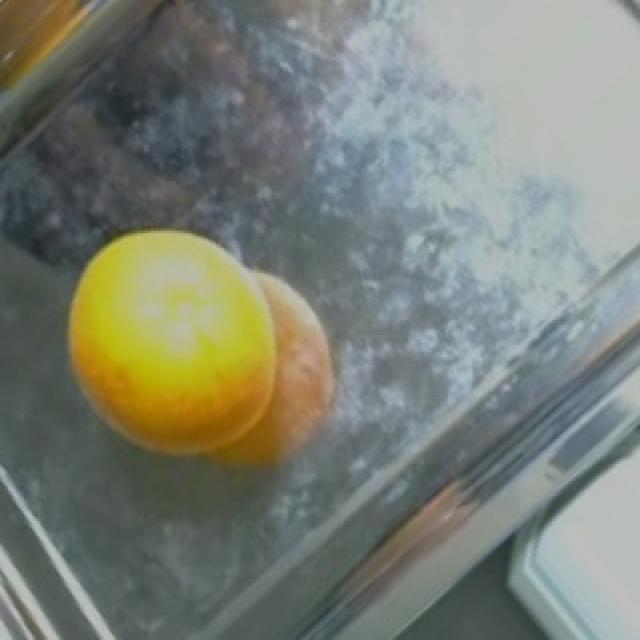Fruit: (60, 226, 360, 491), (0, 2, 120, 122)
